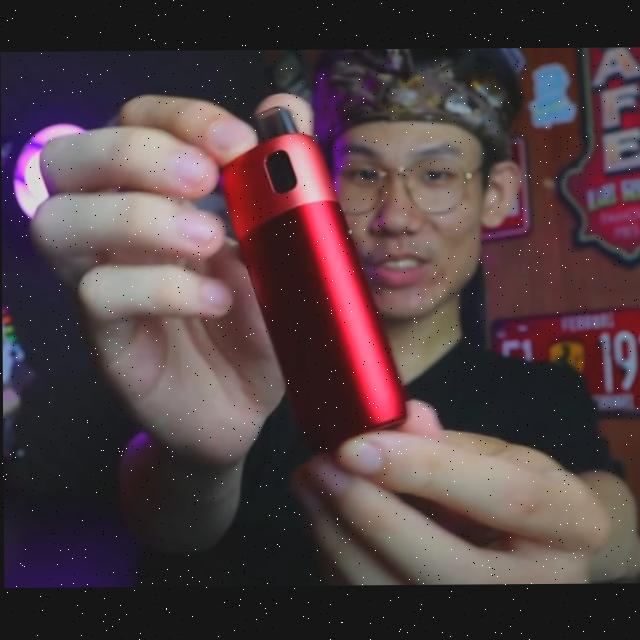vape: (219, 105, 407, 456)
